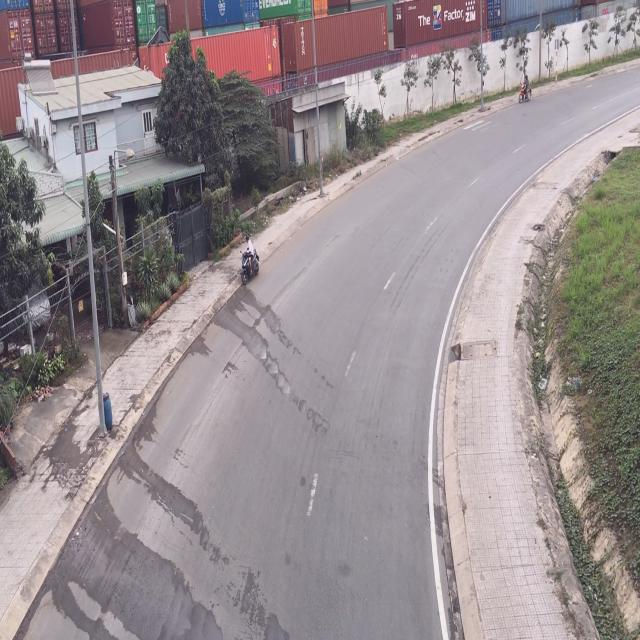motorbike: (241, 237, 261, 286), (518, 64, 534, 108)
